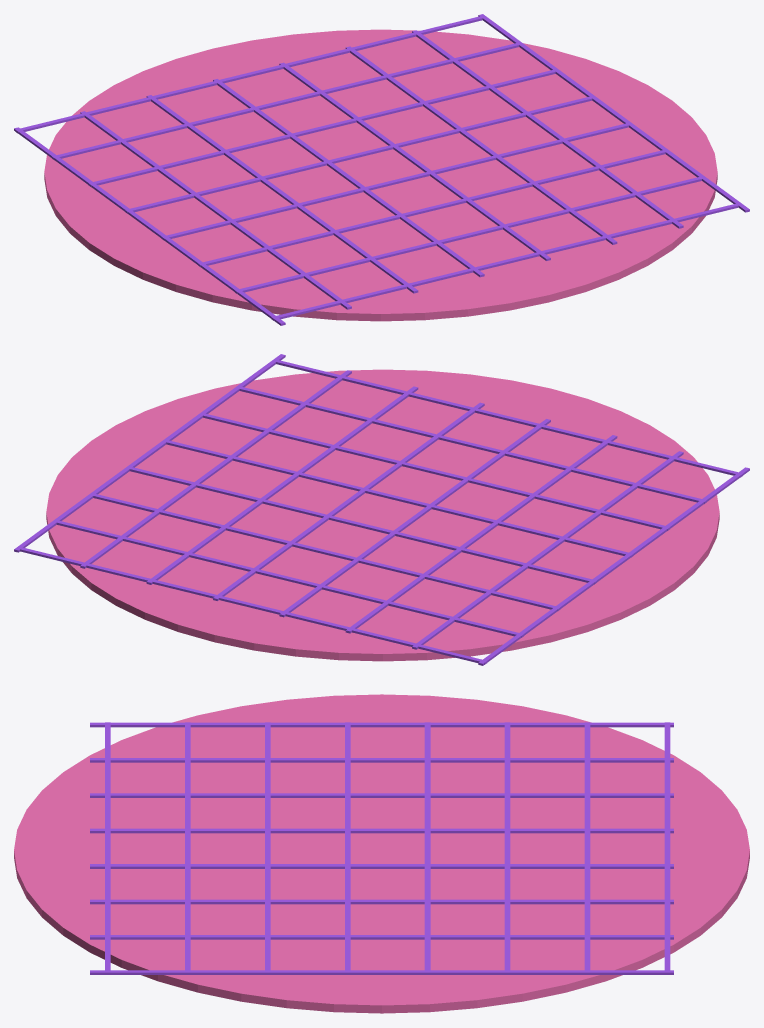
The model's file is 33_L74_PhotosensitiveResistLayer.fbx.
3 views of the same model, one above another, from view 1: azimuth 30°, elevation 25°; view 2: azimuth 150°, elevation 25°; view 3: azimuth 270°, elevation 25° (orthographic). The views are drawn at different scales.
Visible parts, largest first — view 1: PhotosensitiveResistLayer; view 2: PhotosensitiveResistLayer; view 3: PhotosensitiveResistLayer.
Boxes of the visible parts, box(x1,y1,x2,y2) form: PhotosensitiveResistLayer: box(14, 14, 749, 325); PhotosensitiveResistLayer: box(14, 354, 749, 665); PhotosensitiveResistLayer: box(14, 694, 749, 1013).
Bounding box in the file's own units: 116 × 1.9 × 116.
